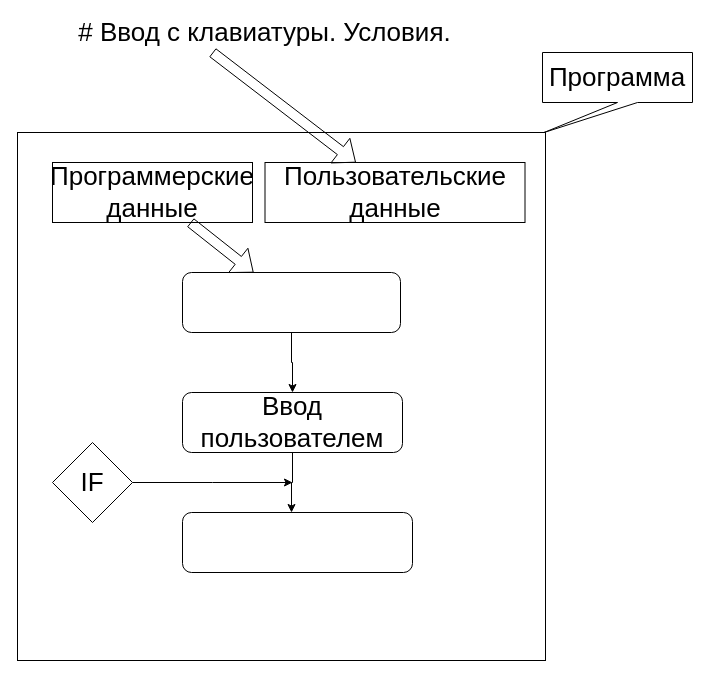
The diagram is 710 pixels wide and 678 high, and some of its shapes have lost their labels. Each missing label, with the centre of its shape:
"Вывод результата на экран" goes at [297,542].
"Инициализация" goes at [291,302].
